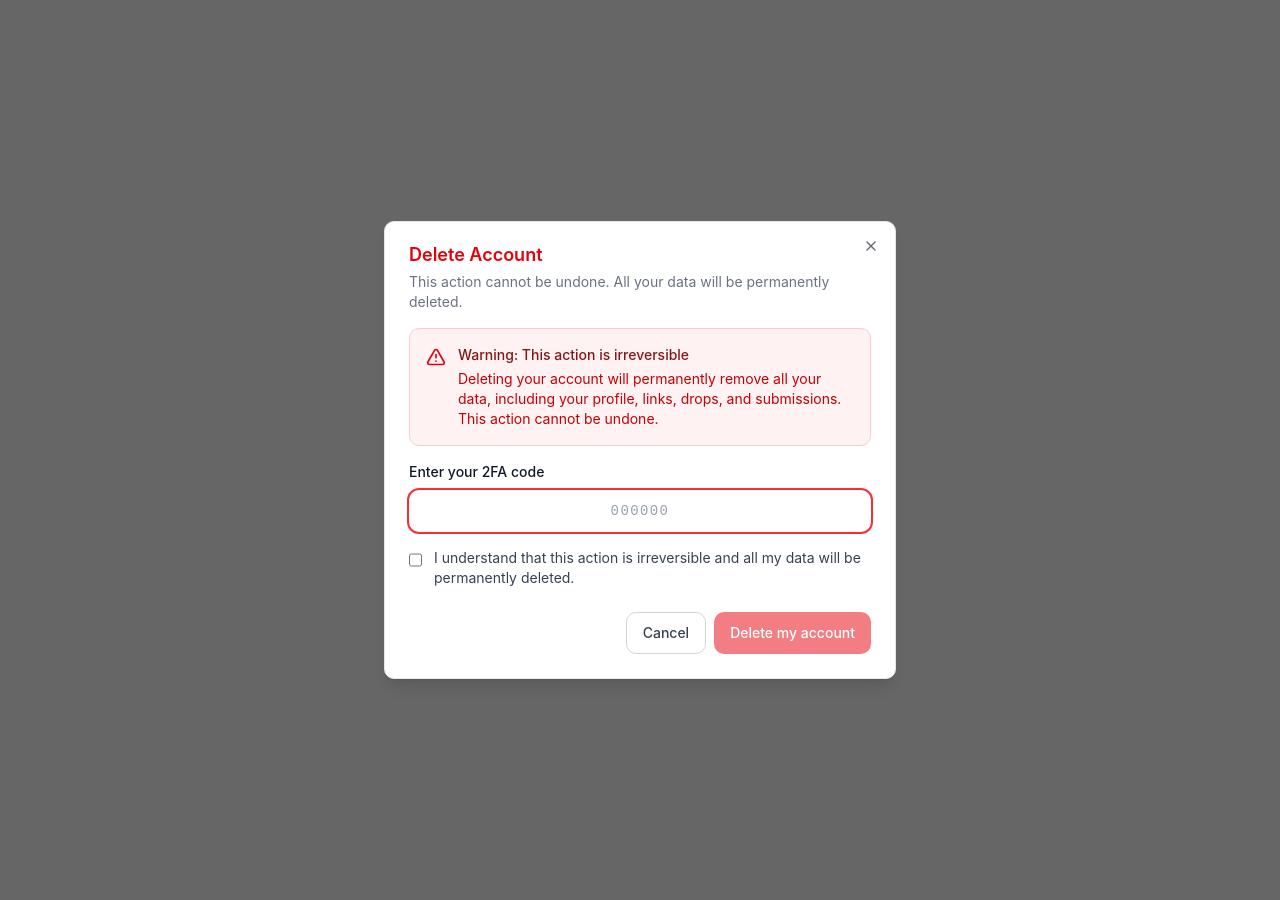
Scenario: DeleteAccountModal › Form Integration › calculates isValid based on MFA code and checkbox
Expected: the button with test id "delete-account-submit-button" is disabled, [714,612,871,654]
# Enable with MFA code and checkbox
Type "123456" into the field with test id "delete-account-mfa-input". click: (640, 511)
box: [409,490,871,532]
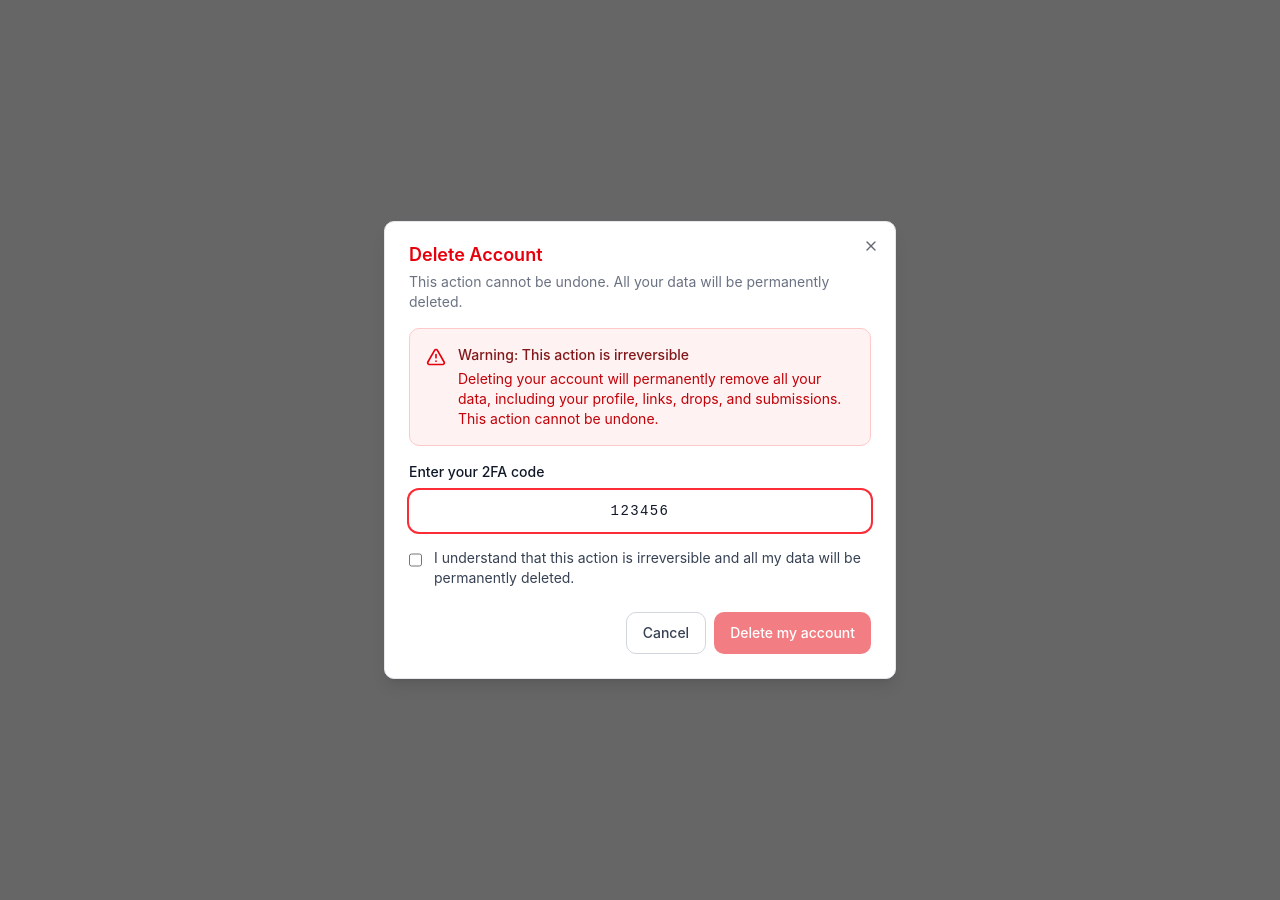
Click the checkbox with test id "delete-account-confirm-checkbox". click: (416, 560)
box: [409,552,422,568]
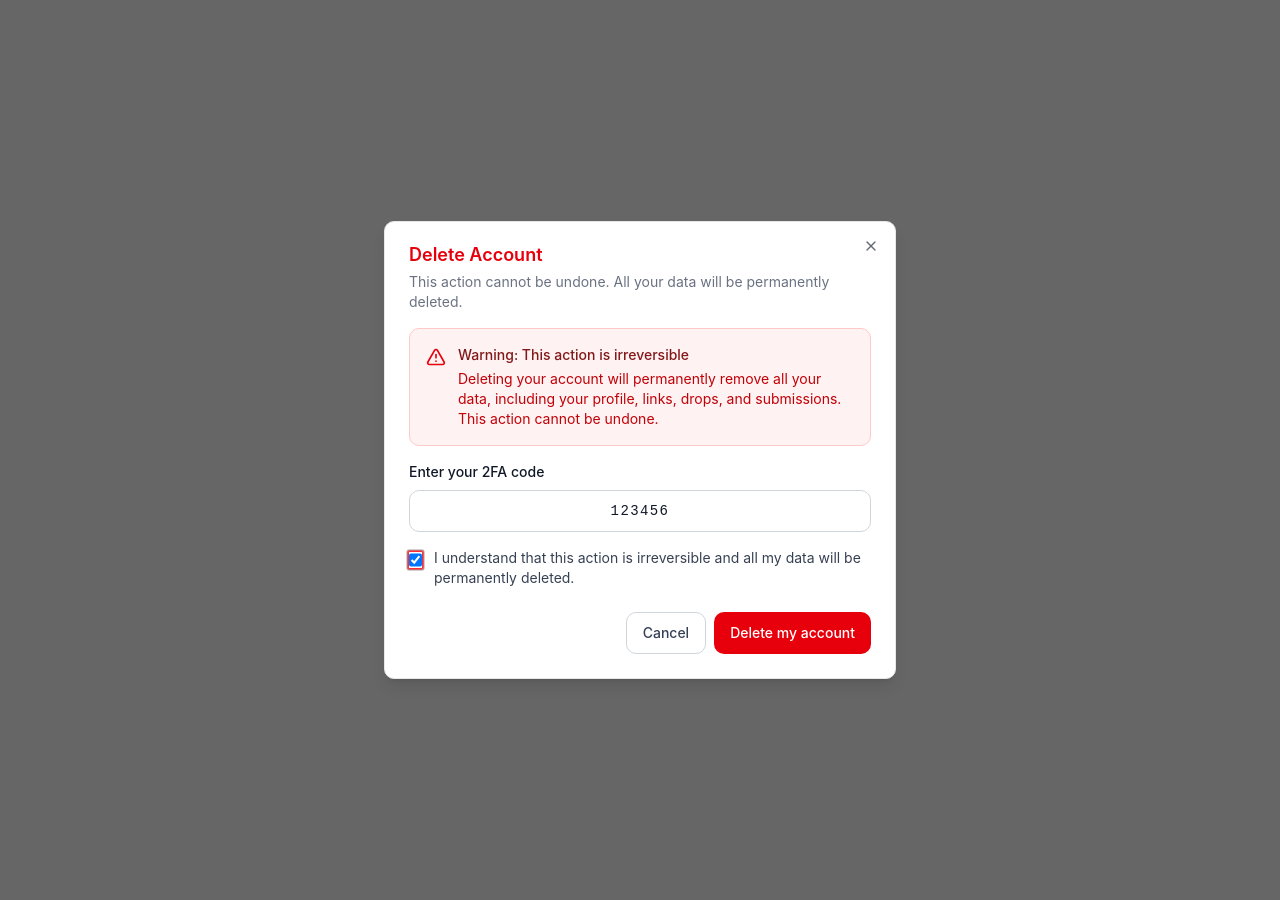
Expected: the button with test id "delete-account-submit-button" is enabled, [714,612,871,654]
